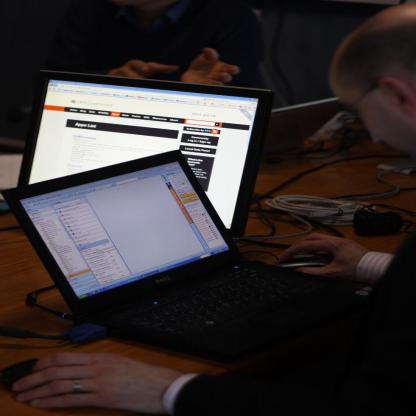board: (41, 153, 362, 367)
